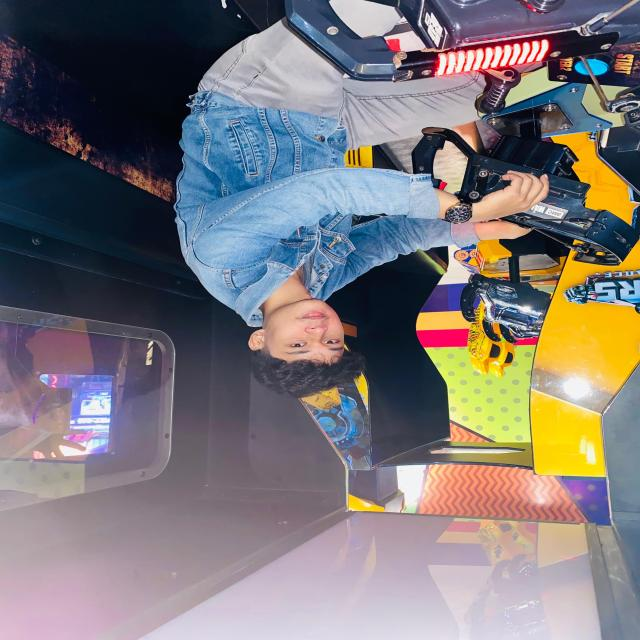nohelmet: (242, 302, 364, 396)
